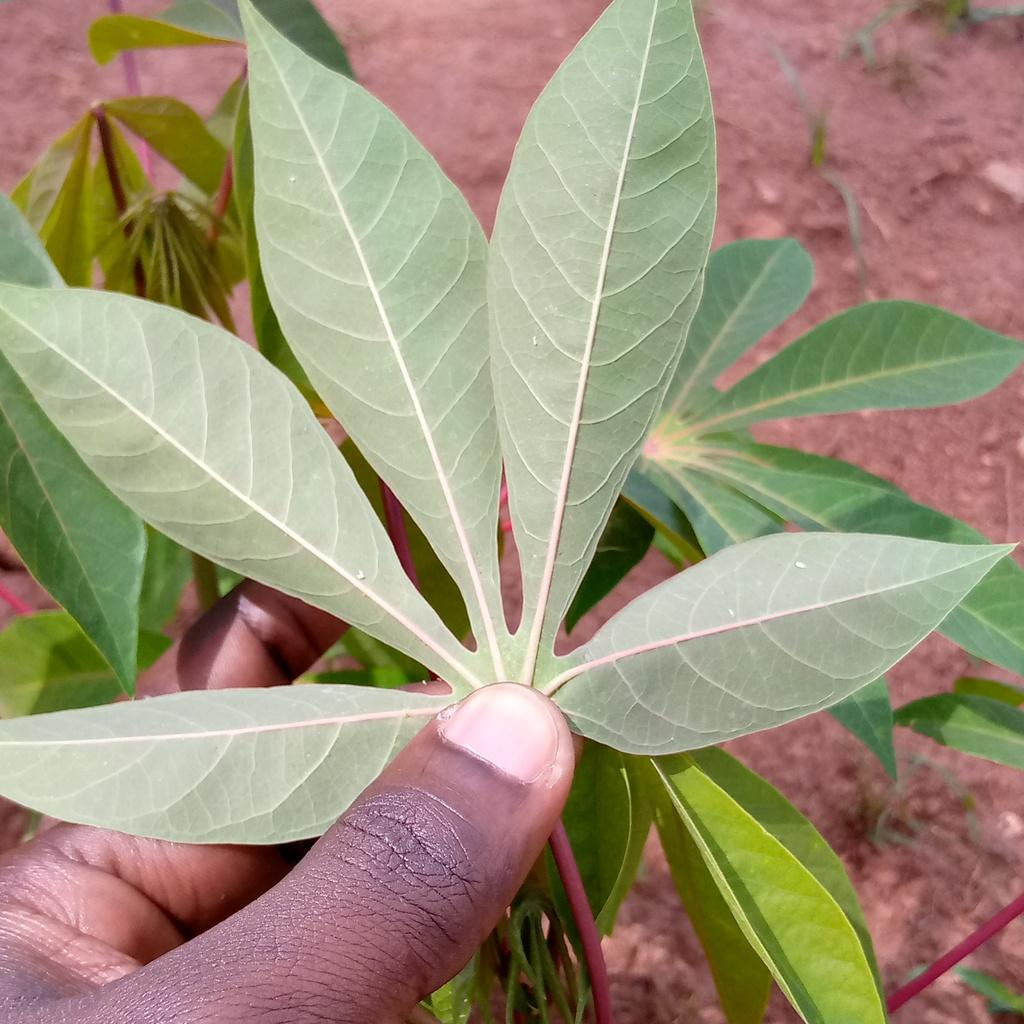adult: (355, 569, 365, 580), (795, 561, 806, 569), (531, 336, 539, 346), (727, 608, 735, 616), (289, 176, 296, 183)
